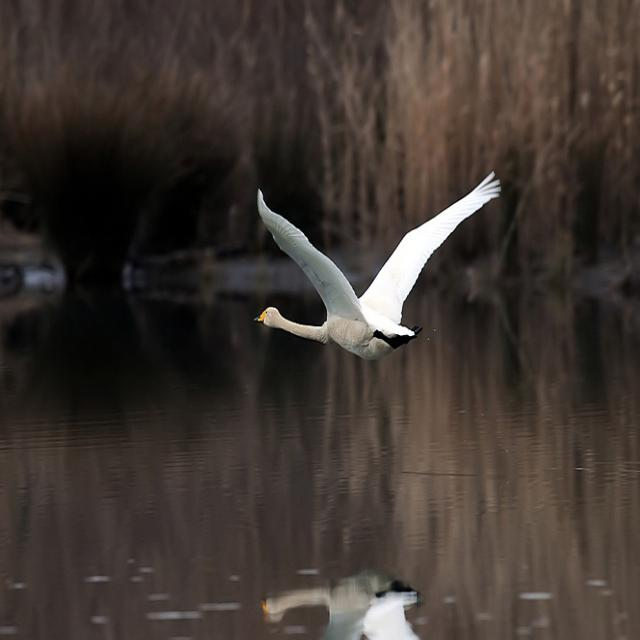bird: (250, 171, 508, 372)
